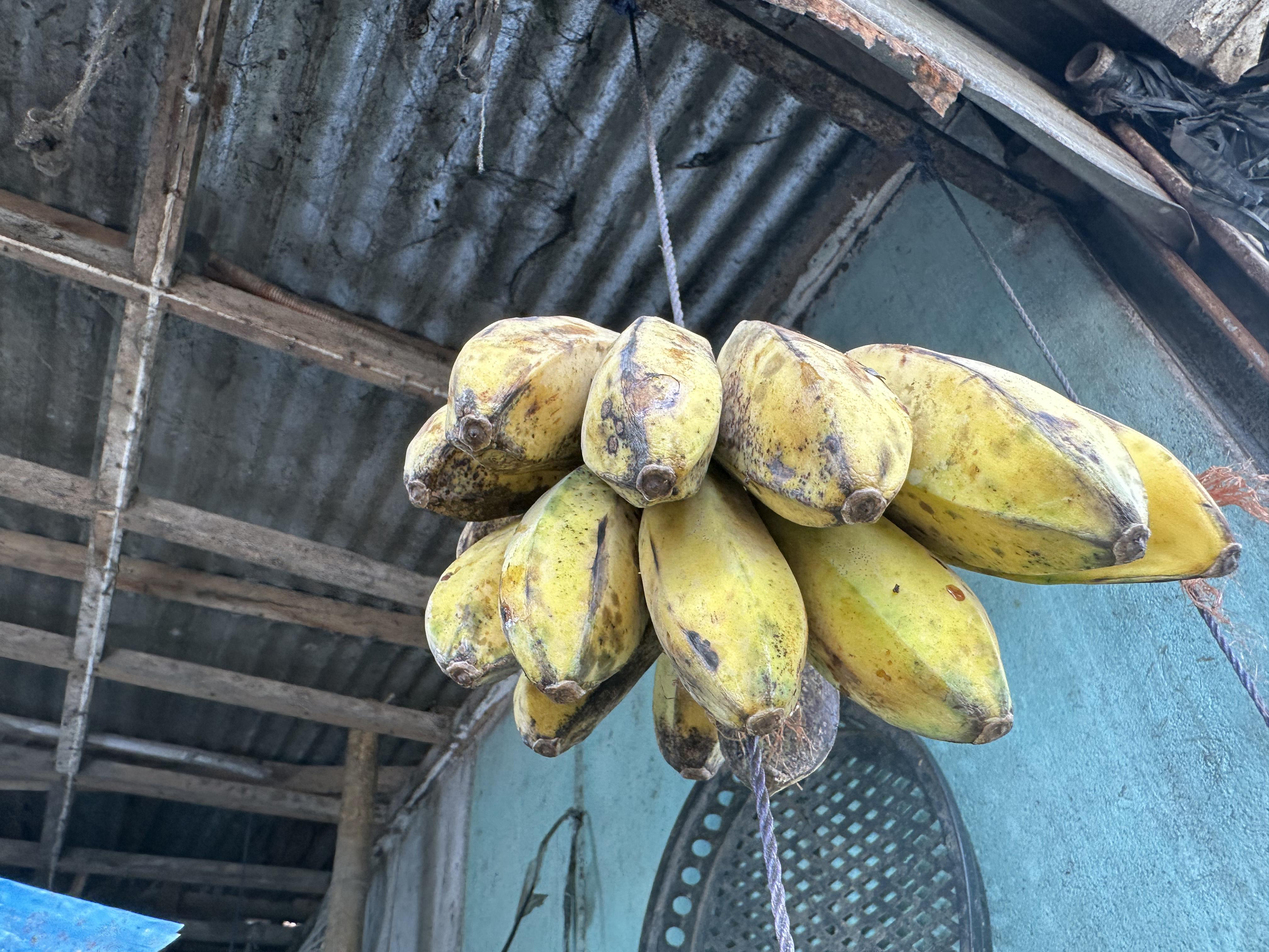underripe: (404, 316, 1243, 798)
